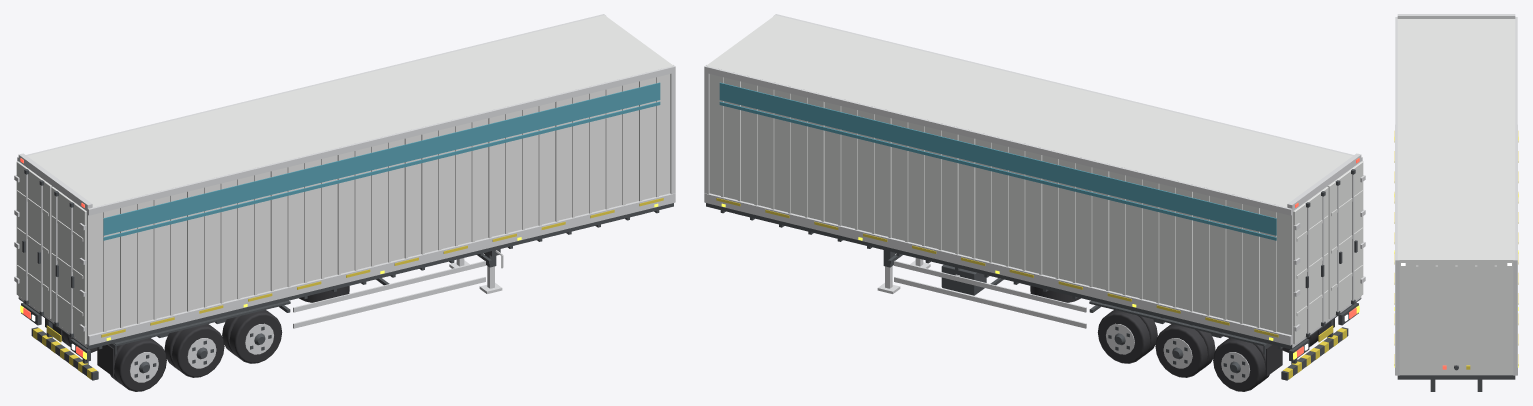
Rendered from trailer_40.glb.
3 renders of one model, left to right at view 1: azimuth 30°, elevation 25°; view 2: azimuth 150°, elevation 25°; view 3: azimuth 270°, elevation 25°, orthographic. The views are drawn at different scales.
Visible parts, largest first — view 1: shell_node__shell, root__chrome, shell_node__livery, root__chassis, door_r__shell, door_l__shell, wheel_0_r__tyre, wheel_1_r__tyre, root__hazard_yellow, wheel_2_r__tyre, root__tyre, door_r__chrome (+4 smaller); view 2: shell_node__shell, root__chrome, shell_node__livery, root__chassis, door_l__shell, door_r__shell, wheel_0_l__tyre, wheel_1_l__tyre, root__hazard_yellow, wheel_2_l__tyre, root__tyre, door_l__chrome (+5 smaller); view 3: shell_node__shell, root__chrome, root__chassis, root__hazard_yellow.
Part boxes in pixels (<box>): shell_node__shell: <box>27,15,673,335</box>; root__chrome: <box>17,14,675,347</box>; shell_node__livery: <box>103,82,660,240</box>; root__chassis: <box>18,203,673,380</box>; door_r__shell: <box>51,186,86,344</box>; door_l__shell: <box>16,161,52,318</box>; wheel_0_r__tyre: <box>222,310,282,363</box>; wheel_1_r__tyre: <box>164,324,224,377</box>; root__hazard_yellow: <box>33,198,663,379</box>; wheel_2_r__tyre: <box>110,338,166,391</box>; root__tyre: <box>45,286,349,376</box>; door_r__chrome: <box>55,196,86,333</box>; shell_node__shell: <box>706,15,1352,335</box>; root__chrome: <box>704,14,1362,347</box>; shell_node__livery: <box>719,82,1276,240</box>; root__chassis: <box>706,203,1361,380</box>; door_l__shell: <box>1293,186,1328,344</box>; door_r__shell: <box>1327,161,1363,318</box>; wheel_0_l__tyre: <box>1097,310,1157,363</box>; wheel_1_l__tyre: <box>1155,324,1215,377</box>; root__hazard_yellow: <box>716,198,1346,379</box>; wheel_2_l__tyre: <box>1213,338,1269,391</box>; root__tyre: <box>1030,286,1334,376</box>; door_l__chrome: <box>1293,196,1324,333</box>; shell_node__shell: <box>1397,19,1515,375</box>; root__chrome: <box>1395,14,1517,375</box>; root__chassis: <box>1397,365,1515,391</box>; root__hazard_yellow: <box>1394,131,1518,369</box>.
Bounding box in the file's own units: 12.39 × 4.02 × 2.64.
